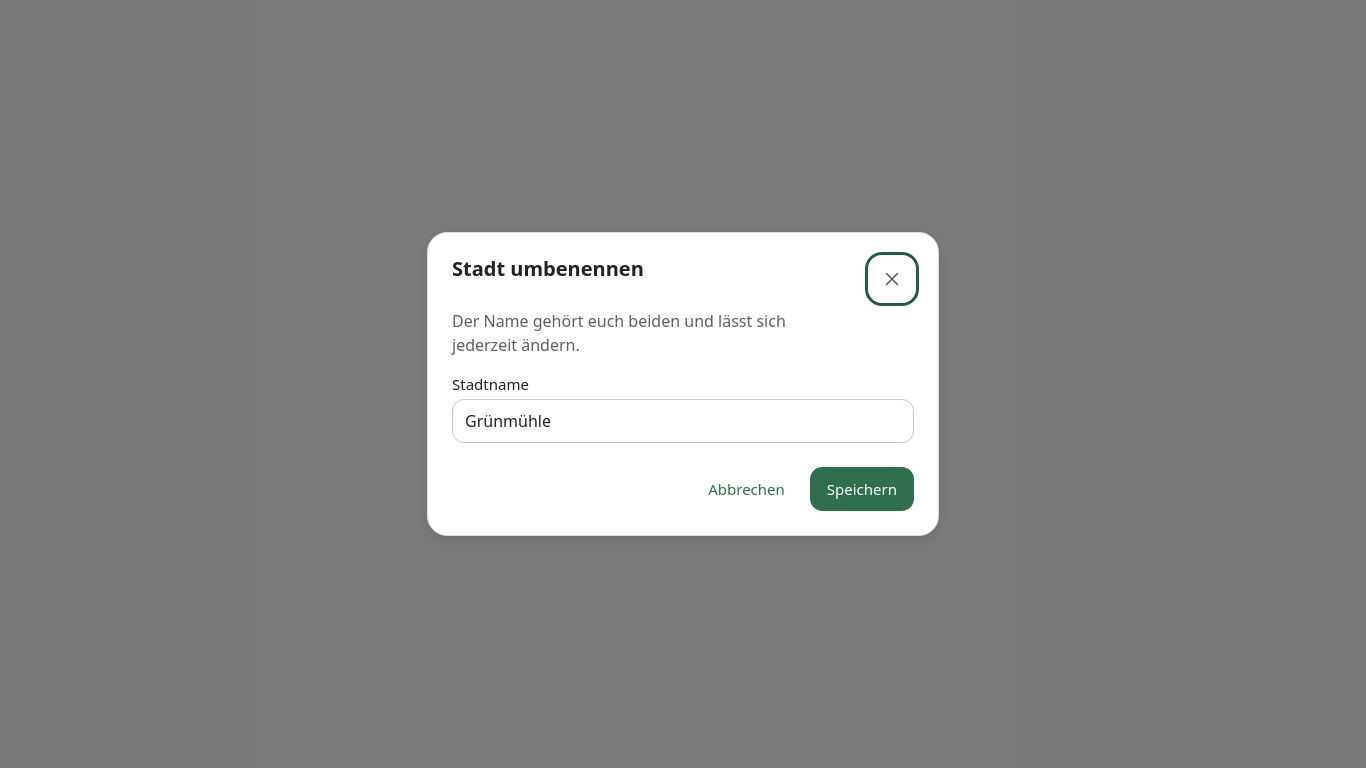
Test: RenameCityDialog › rejects markup client-side before submitting (§69)
Replace the text in the field labelled "Stadtname" with "<script>" at (683, 421), box [452,399,914,443]
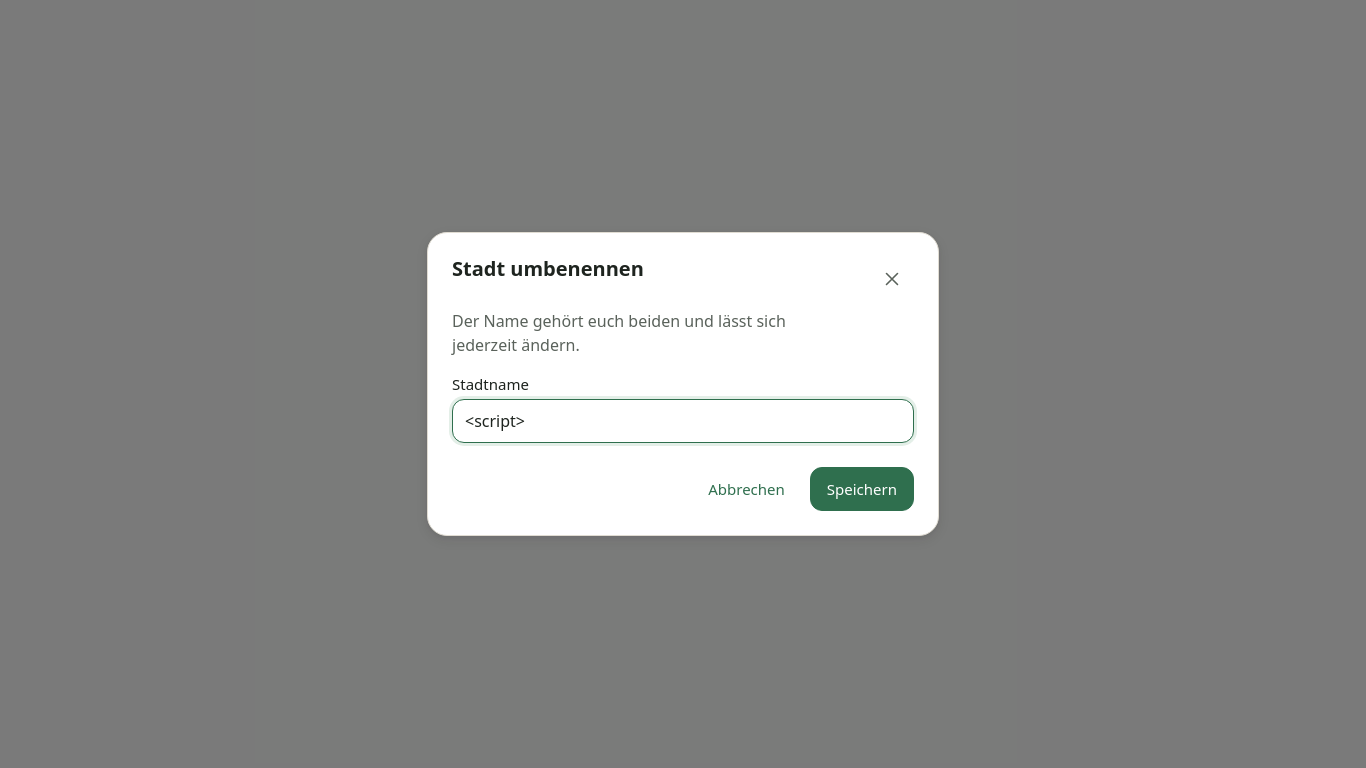
Click the button "Speichern" at (862, 489), box [810,467,914,511]
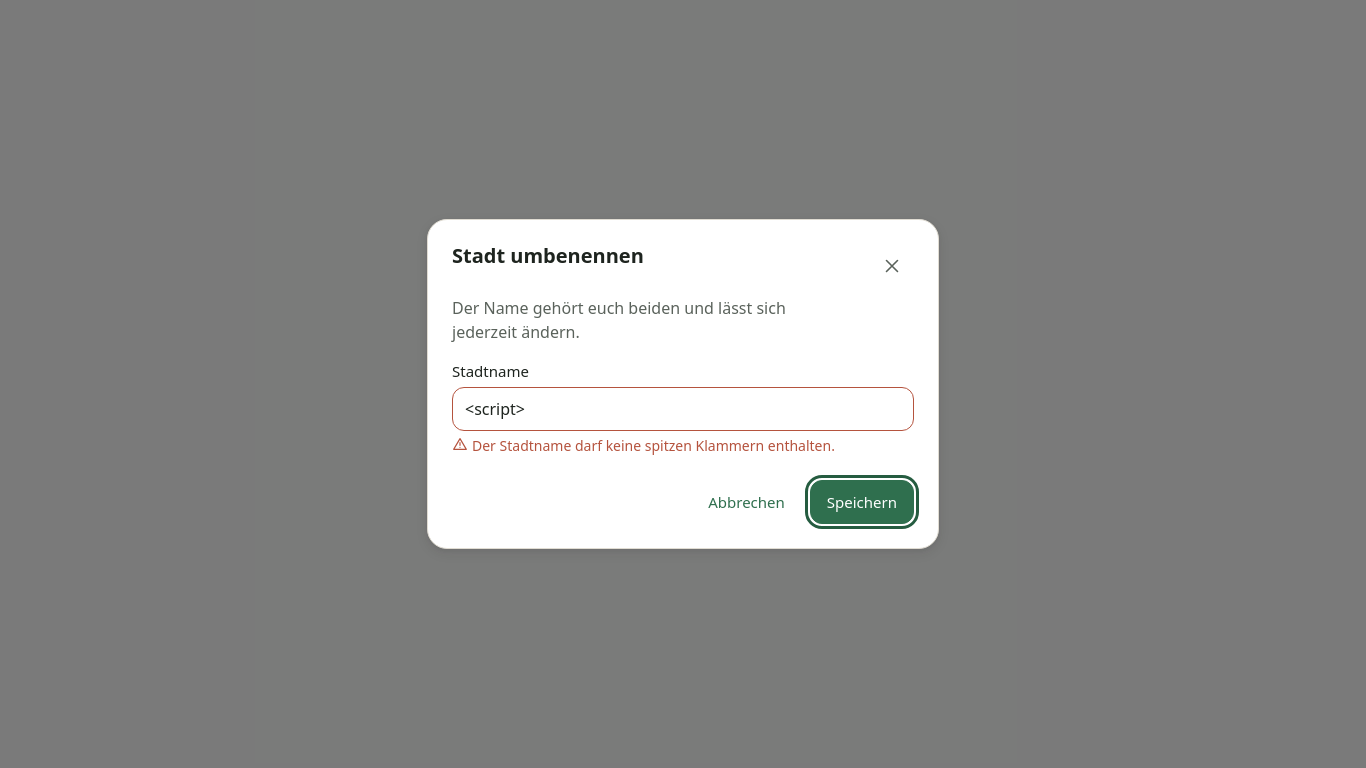
Expected: the text "Der Stadtname darf keine spitzen Klammern enthalten." is shown, [472,435,835,456]
